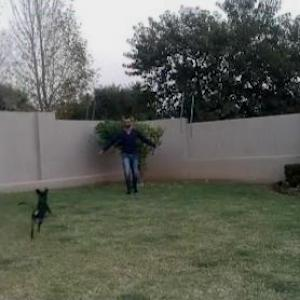land: (88, 106, 160, 202)
